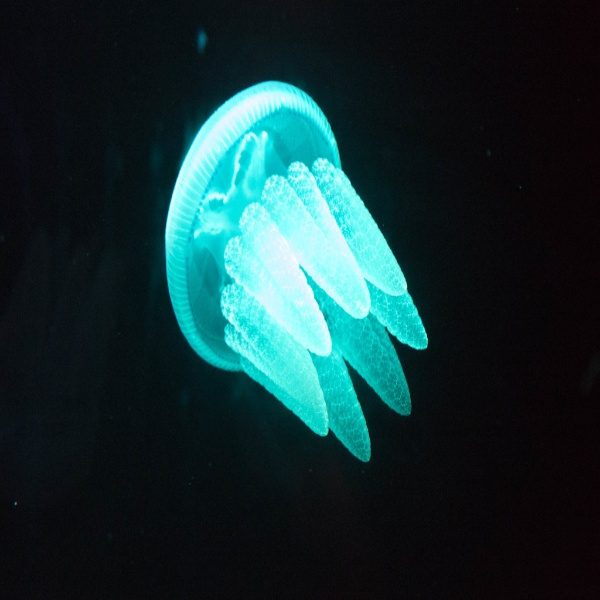Jellyfish: (165, 80, 428, 462)
